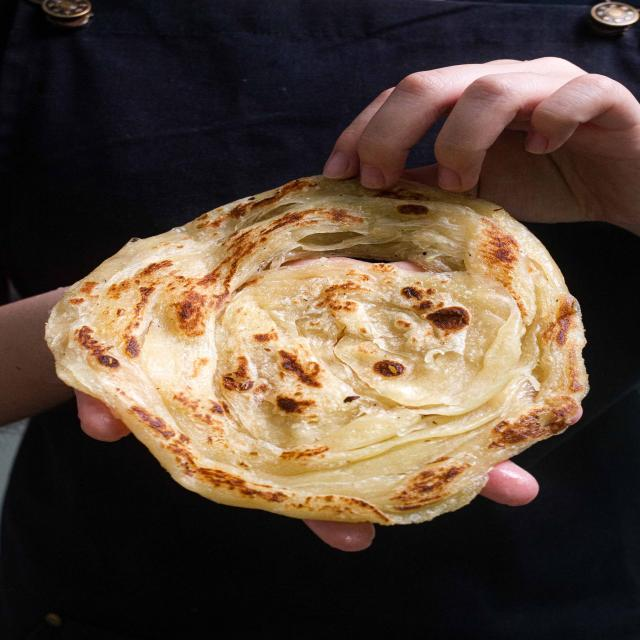Paratha: (34, 178, 626, 530)
